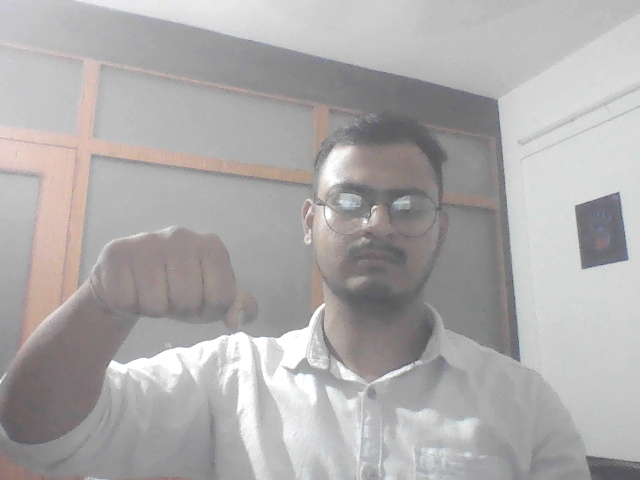YES: (85, 218, 268, 364)
